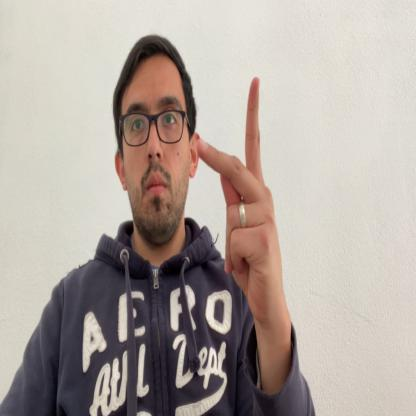P: (196, 75, 286, 338)
